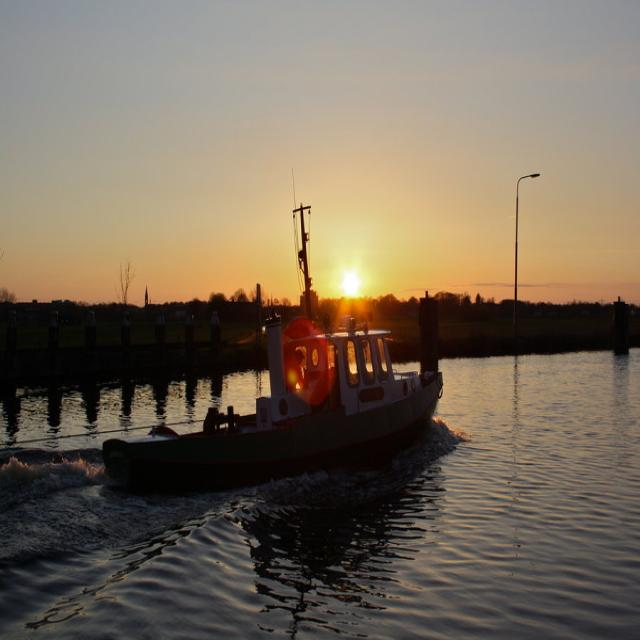Boat: (61, 283, 484, 507)
